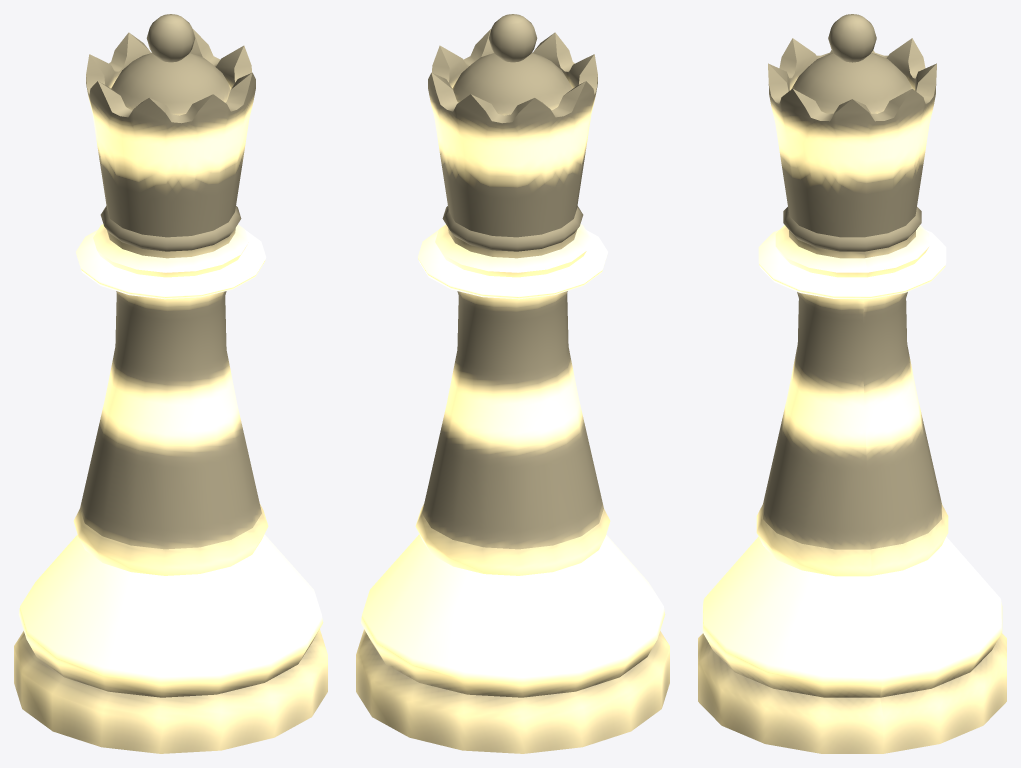
Rendered from item-4-10.glb.
The picture shows the model from 3 angles, left to right: view 1: azimuth 30°, elevation 25°; view 2: azimuth 150°, elevation 25°; view 3: azimuth 270°, elevation 25°; orthographic projection.
Visible parts, largest first — view 1: BlackQueen; view 2: BlackQueen; view 3: BlackQueen.
Part boxes in pixels (x1=…): BlackQueen: x1=14, y1=14, x2=327, y2=753; BlackQueen: x1=356, y1=14, x2=669, y2=753; BlackQueen: x1=698, y1=14, x2=1006, y2=753.
Bounding box in the file's own units: 0.0968 × 0.2326 × 0.0968.
Materials: 1 (1 with a texture image).
